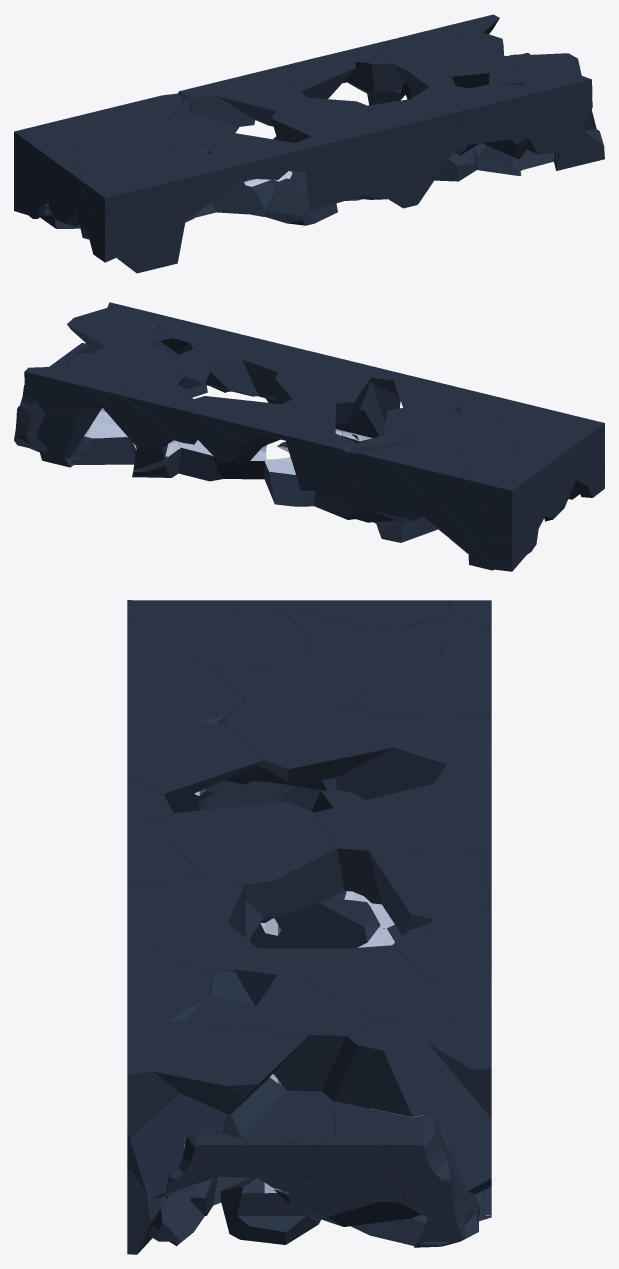
The model's file is Flourescent Lamp.fbx.
3 views of the same model, one above another, from view 1: azimuth 30°, elevation 25°; view 2: azimuth 150°, elevation 25°; view 3: azimuth 270°, elevation 25° (orthographic). The views are drawn at different scales.
Visible parts, largest first — view 1: Cube_cell.192, Cube_cell.057, Cube_cell.197, Cube_cell.161, Cube_cell.064, Cube_cell.044, Cube_cell.072, Cube_cell.180, Cube_cell.235, Cube_cell.186, Cube_cell.191, Cube_cell.223 (+43 smaller); view 2: Cube_cell.220, Cube_cell.161, Cube_cell.186, Cube_cell.065, Cube_cell.055, Cube_cell.191, Cube_cell.064, Cube_cell.086, Cube_cell.197, Cube_cell.215, Cube_cell.201, Cube_cell.093 (+44 smaller); view 3: Cube_cell.161, Cube_cell.086, Cube_cell.064, Cube_cell.061, Cube_cell.169, Cube_cell.044, Cube_cell.186, Cube_cell.192, Cube_cell.055, Cube_cell.062, Cube_cell.197, Cube_cell.208 (+42 smaller).
Boxes of the visible parts, x1,y1,x2,y2 form: Cube_cell.192: (142,151,236,220); Cube_cell.057: (459,84,538,144); Cube_cell.197: (367,99,463,152); Cube_cell.161: (271,97,368,142); Cube_cell.064: (216,70,306,126); Cube_cell.044: (207,133,294,179); Cube_cell.072: (519,75,592,122); Cube_cell.180: (318,132,384,208); Cube_cell.235: (388,149,454,208); Cube_cell.186: (273,56,356,99); Cube_cell.191: (345,38,420,96); Cube_cell.223: (135,202,185,264); Cube_cell.220: (346,440,425,522); Cube_cell.161: (275,367,370,424); Cube_cell.186: (193,396,281,464); Cube_cell.065: (285,433,355,491); Cube_cell.055: (389,439,466,500); Cube_cell.191: (103,383,189,447); Cube_cell.064: (254,399,335,440); Cube_cell.086: (36,353,102,458); Cube_cell.197: (233,334,306,398); Cube_cell.215: (24,366,86,414); Cube_cell.201: (70,408,135,464); Cube_cell.093: (193,338,257,396); Cube_cell.161: (160,801,344,920); Cube_cell.086: (322,1014,491,1194); Cube_cell.064: (314,783,491,904); Cube_cell.061: (225,704,393,781); Cube_cell.169: (153,1024,308,1114); Cube_cell.044: (127,722,263,802); Cube_cell.186: (369,850,489,935); Cube_cell.192: (127,642,246,725); Cube_cell.055: (355,648,491,718); Cube_cell.062: (152,611,307,670); Cube_cell.197: (127,877,245,951); Cube_cell.208: (256,975,379,1091).
Bounding box in the file's own units: 678 × 108 × 214.
